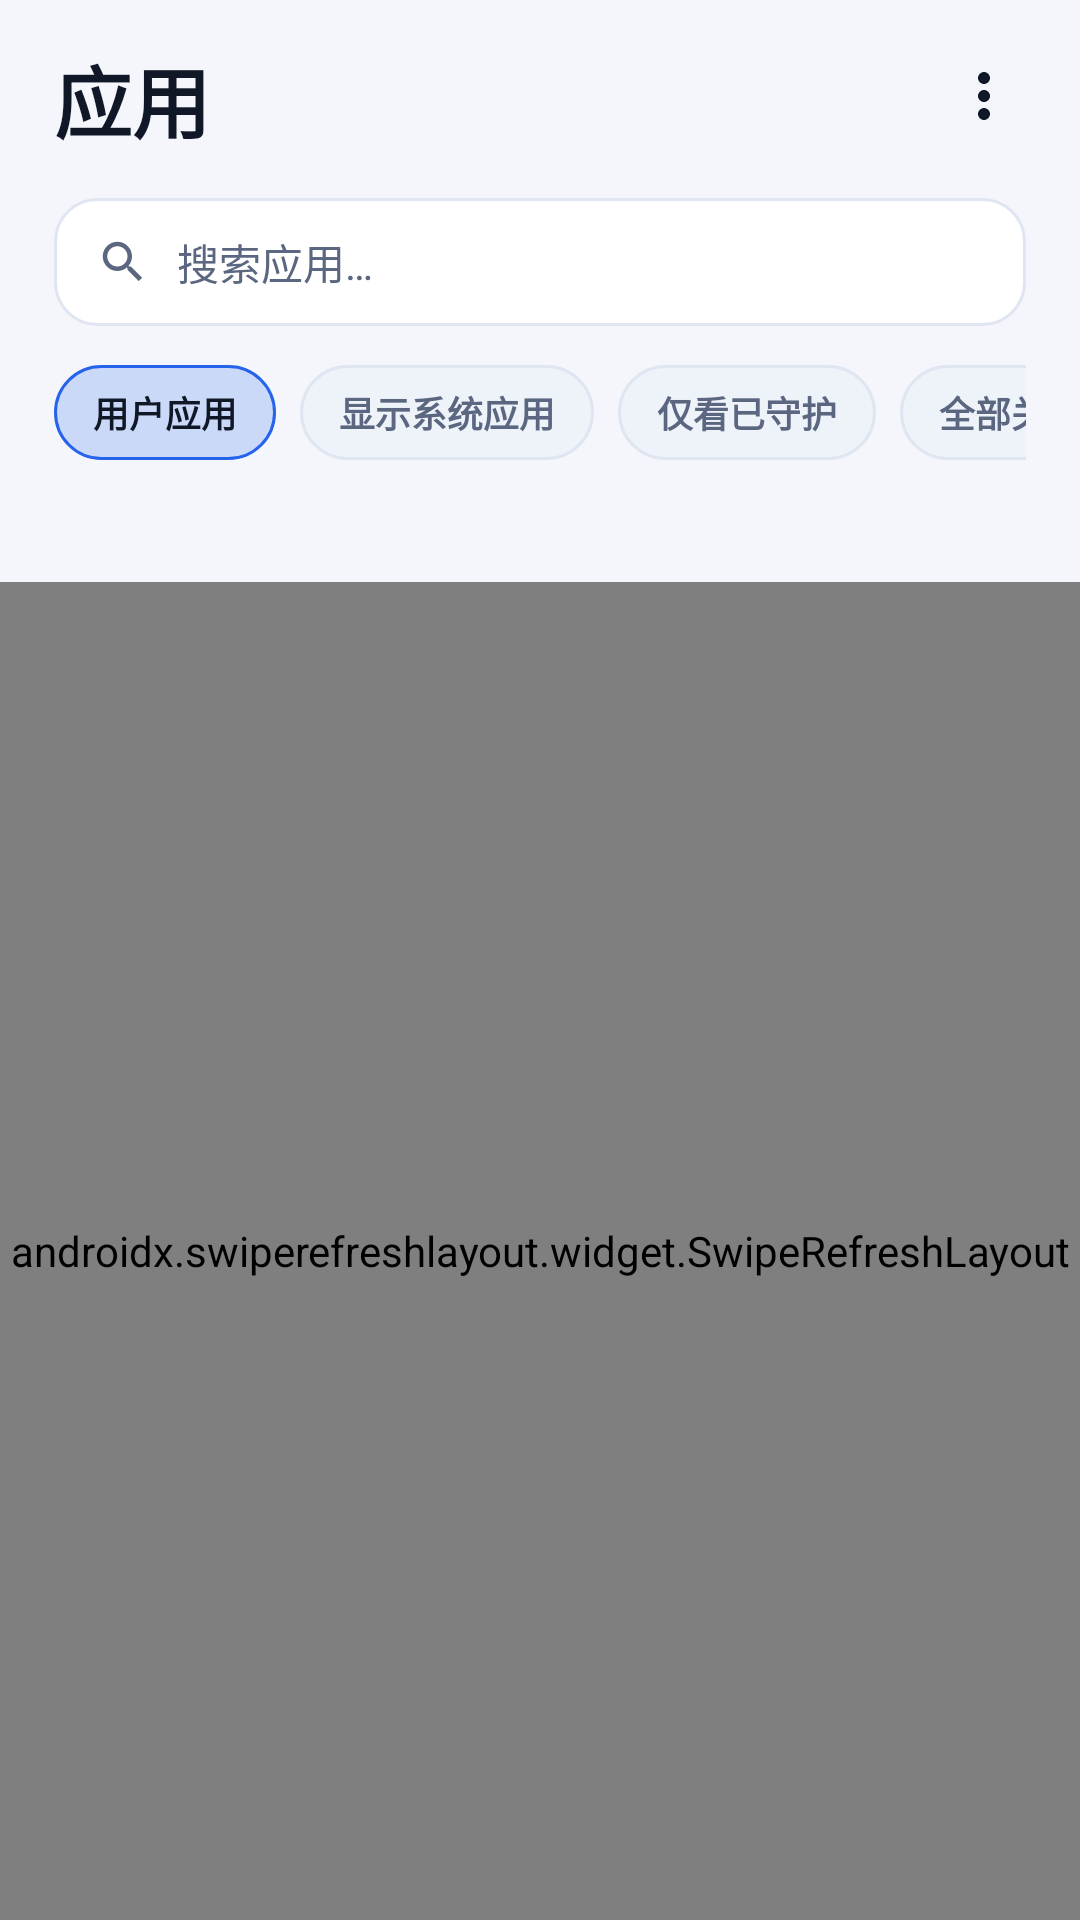

Screen size 1080w x 1920h. Icon name, then its center in pixels as (x=x, y=y):
更多: (x=984, y=96)
